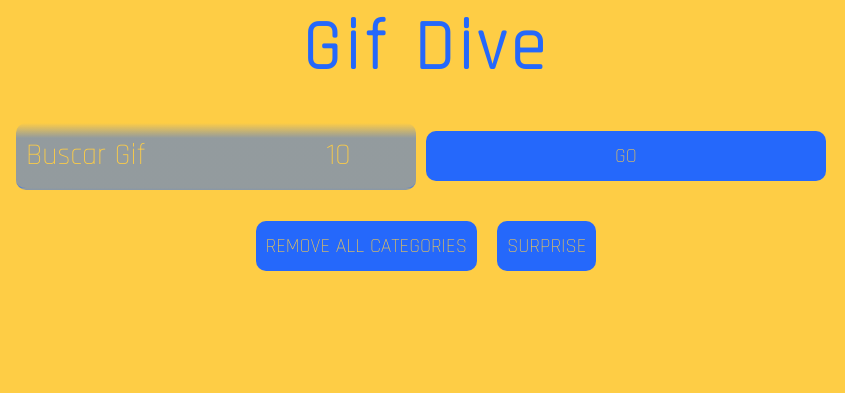
GifDivePage › behavior › should delete a specific category when its delete button is clicked
This screenshot has width=845, height=393.
In the field with placeholder "Buscar Gif": (166, 156) [16,122,316,190], type "cats"
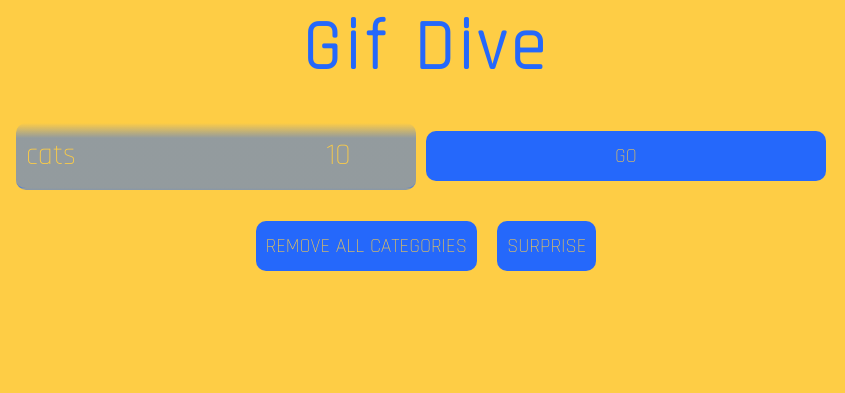
Click the button with aria-label "Search GIFs by category": (626, 156) [426,131,826,181]
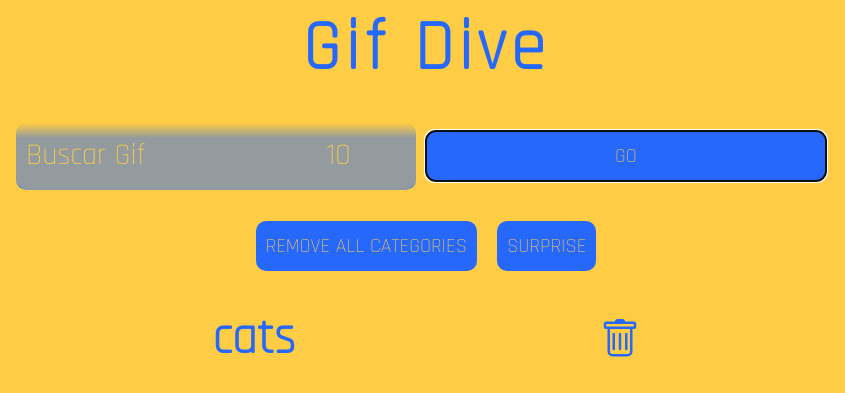
Expected: the heading "cats" is shown, [212,301,295,376]
Click the button named "Delete \"cats\" category": (620, 338) [600,318,640,358]
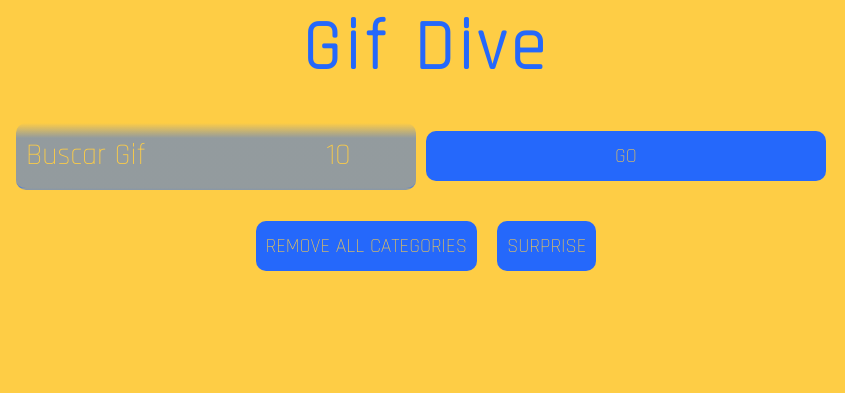
Expected: the heading "cats" is gone
